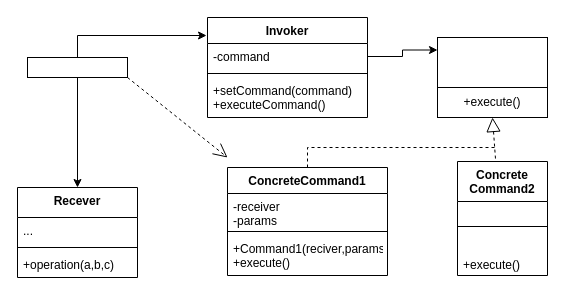
Image size: 565x298. Some labels were removed from this diagram. Here are the shapes that lost their labels. From the top down, the centre of each, then its label:
the point at 77,67: Client
the point at 492,62: «interface» Command
